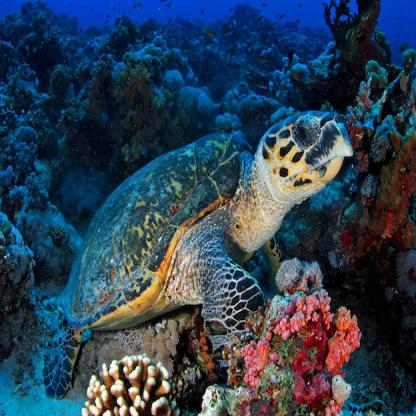turtle: (255, 100, 358, 208)
